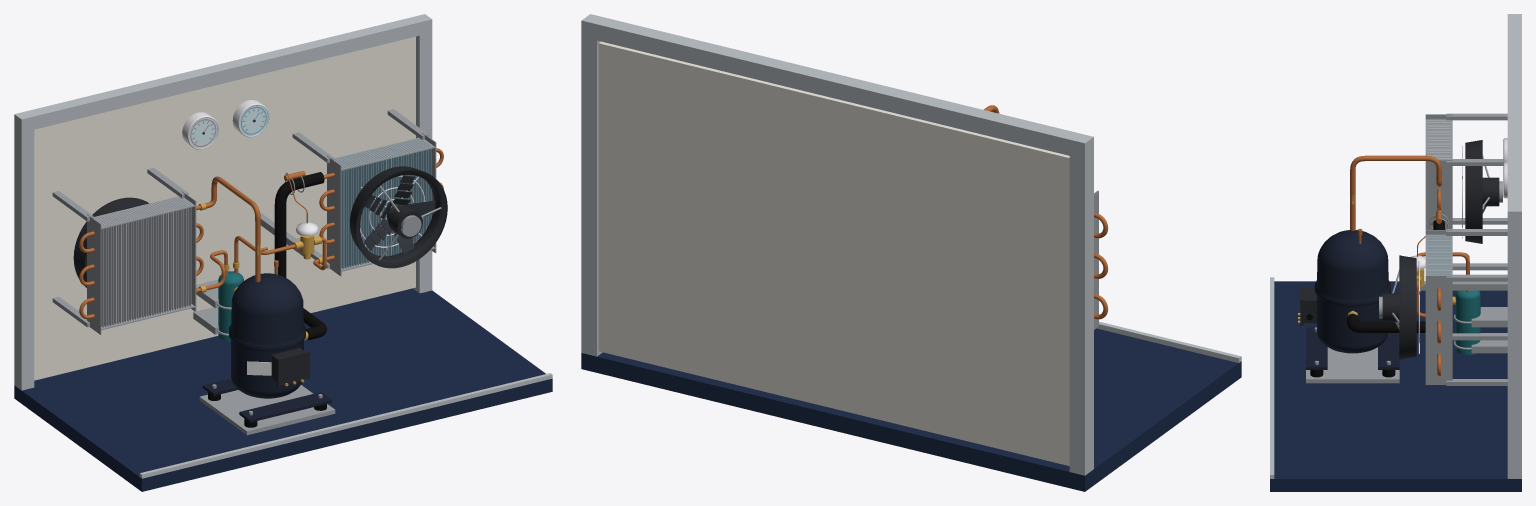
The model's file is VCR_System.glb.
The picture shows the model from 3 angles, left to right: view 1: azimuth 30°, elevation 25°; view 2: azimuth 150°, elevation 25°; view 3: azimuth 270°, elevation 25°; orthographic projection. The views are drawn at different scales.
Parts seen in each view (by area): view 1: C12_Frame, C02_Condenser, C01_Compressor, C04_Evaporator, C07_EvaporatorFan, C11_PressureGauges, C10_SuctionLine, C07_EvaporatorFan_Rotor, C03_ExpansionValve, C05_ReceiverDrier, C06_CondenserFan, C08_DischargeLine (+1 smaller); view 2: C12_Frame, C02_Condenser; view 3: C12_Frame, C01_Compressor, C04_Evaporator, C02_Condenser, C07_EvaporatorFan, C06_CondenserFan, C05_ReceiverDrier, C08_DischargeLine, C10_SuctionLine, C03_ExpansionValve, C11_PressureGauges.
Part boxes in pixels (box(x1,y1,x2,y2)): C12_Frame: box(14, 14, 552, 491); C02_Condenser: box(79, 191, 206, 334); C01_Compressor: box(199, 260, 335, 435); C04_Evaporator: box(316, 132, 443, 276); C07_EvaporatorFan: box(350, 166, 447, 268); C11_PressureGauges: box(182, 100, 269, 149); C10_SuctionLine: box(274, 172, 326, 340); C07_EvaporatorFan_Rotor: box(364, 175, 435, 253); C03_ExpansionValve: box(284, 171, 326, 270); C05_ReceiverDrier: box(217, 260, 243, 341); C06_CondenserFan: box(73, 197, 148, 287); C08_DischargeLine: box(205, 176, 267, 282); C12_Frame: box(581, 14, 1241, 491); C02_Condenser: box(1094, 190, 1108, 329); C12_Frame: box(1270, 14, 1521, 491); C01_Compressor: box(1298, 228, 1399, 383); C04_Evaporator: box(1425, 230, 1452, 384); C02_Condenser: box(1425, 114, 1452, 229); C07_EvaporatorFan: box(1379, 255, 1419, 359); C06_CondenserFan: box(1462, 140, 1502, 243); C05_ReceiverDrier: box(1452, 290, 1480, 354); C08_DischargeLine: box(1350, 155, 1441, 230); C10_SuctionLine: box(1347, 220, 1444, 332); C03_ExpansionValve: box(1410, 207, 1448, 317); C11_PressureGauges: box(1503, 138, 1507, 198).
Size of the model in its own units: 1.3 by 0.87 by 0.7.
